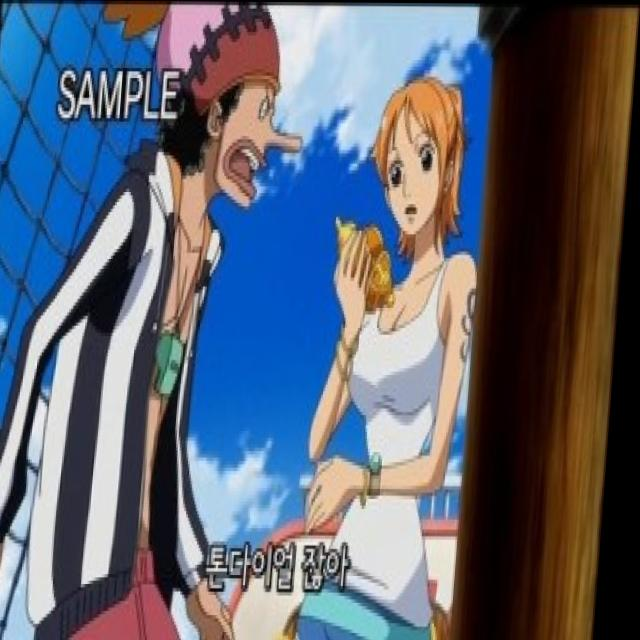Nami: (366, 69, 480, 261)
Usopp: (135, 1, 318, 227)
